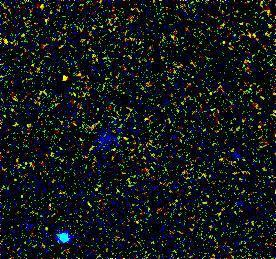star: (51, 61, 81, 91)
